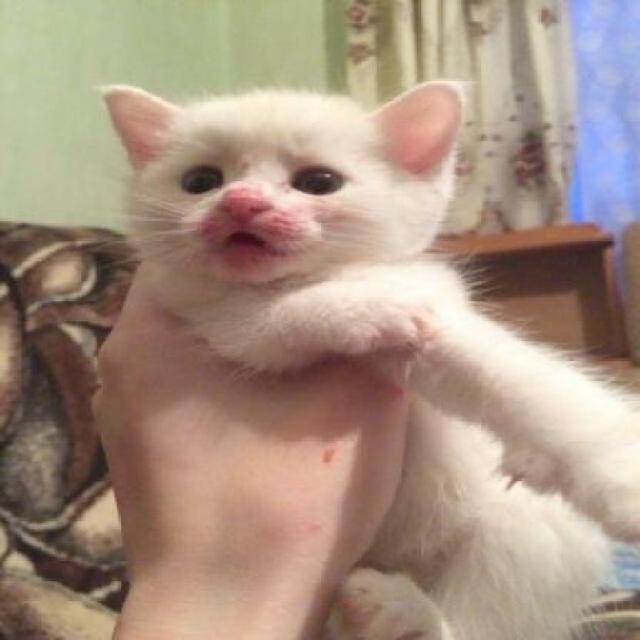cat: (95, 72, 640, 519)
